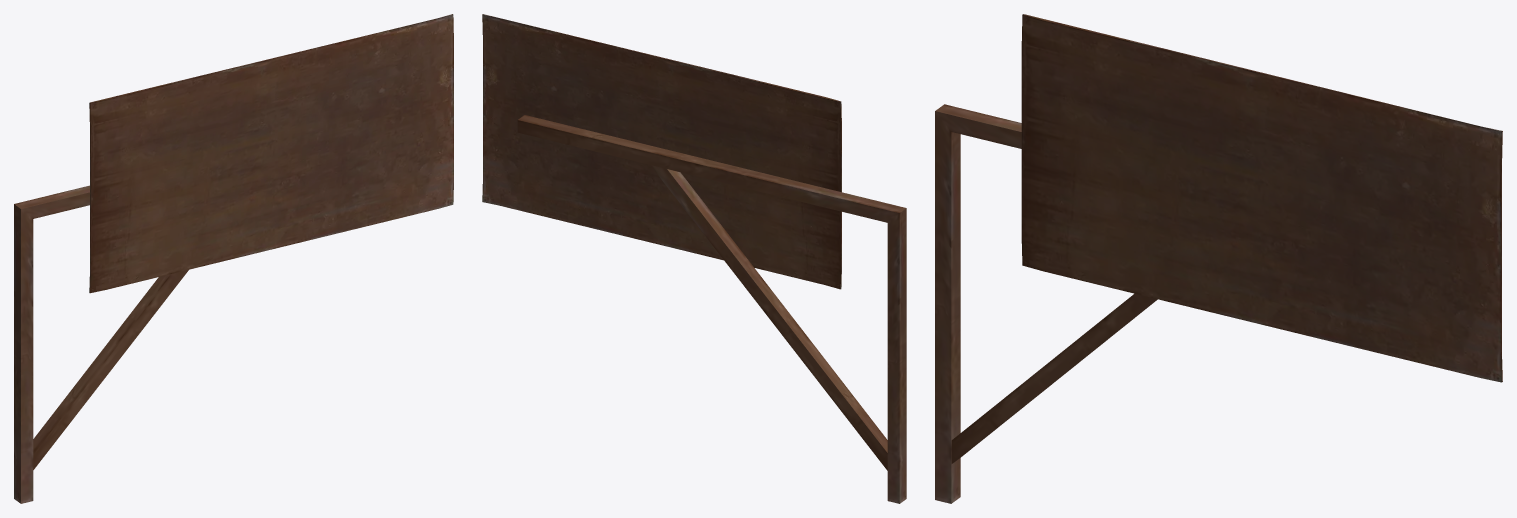
File: mt_sign_c.glb
The picture shows the model from 3 angles, left to right: view 1: azimuth 30°, elevation 25°; view 2: azimuth 150°, elevation 25°; view 3: azimuth 330°, elevation 25°; orthographic projection. The views are drawn at different scales.
Parts seen in each view (by area): view 1: mt_sign_c; view 2: mt_sign_c; view 3: mt_sign_c.
Boxes of the visible parts, <box> form: mt_sign_c: <box>14,14,453,503</box>; mt_sign_c: <box>482,14,906,503</box>; mt_sign_c: <box>935,14,1502,503</box>.
Size of the model in its own units: 3.52 by 3.01 by 0.1282.
1 material, 1 textured.
